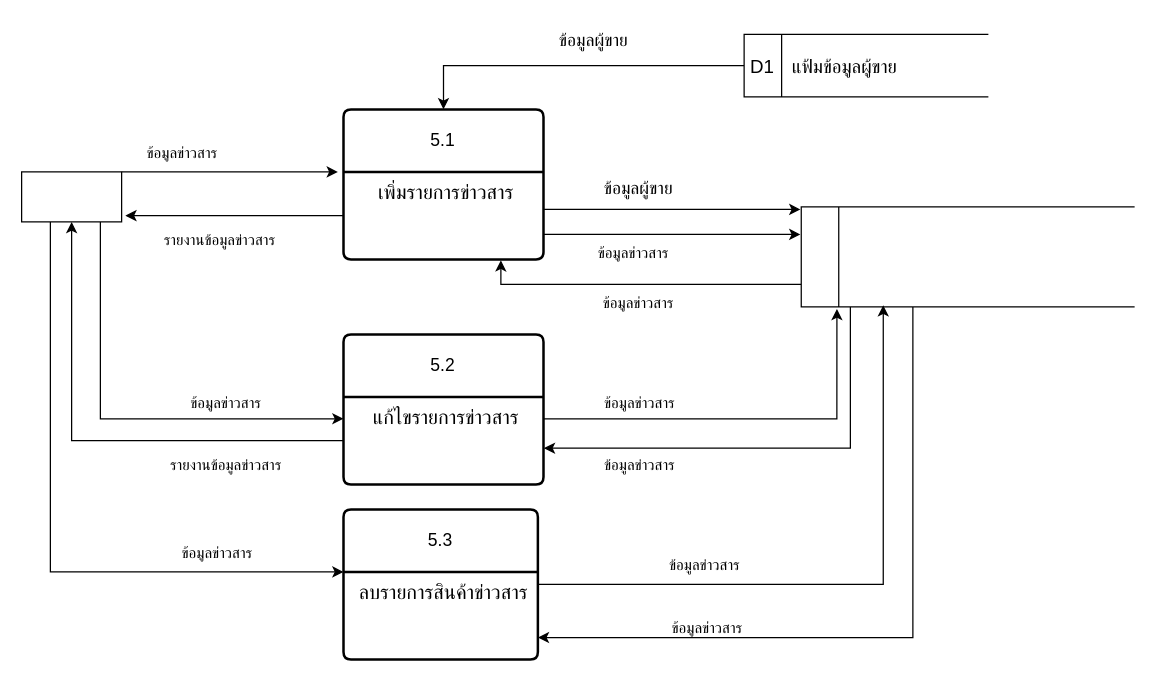
Some shapes in this 1158 by 681 pixel diagram are drawn without their labels. The shapes that lost their labels are listed below. From the top down, each one's centre as x and y in pixels, then its label:
At pixel 71 196: "ผู้ขาย".
At pixel 967 256: "D3 แฟ้มข้อมูลข่าวสาร".
